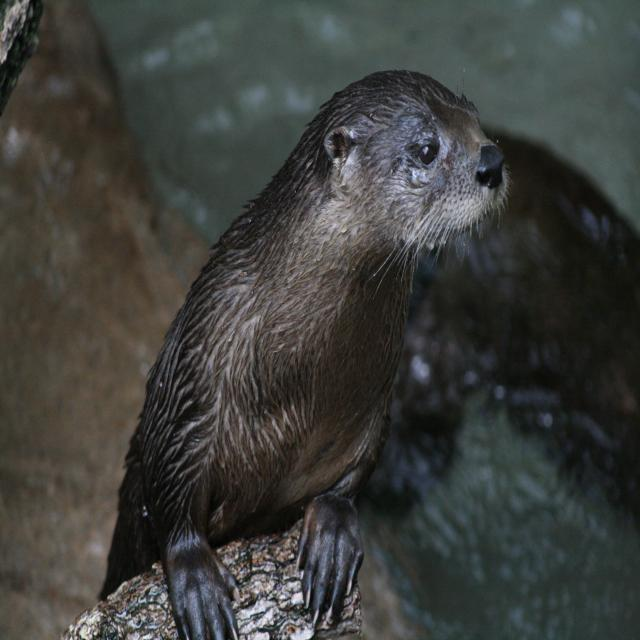otter: (104, 71, 511, 640)
